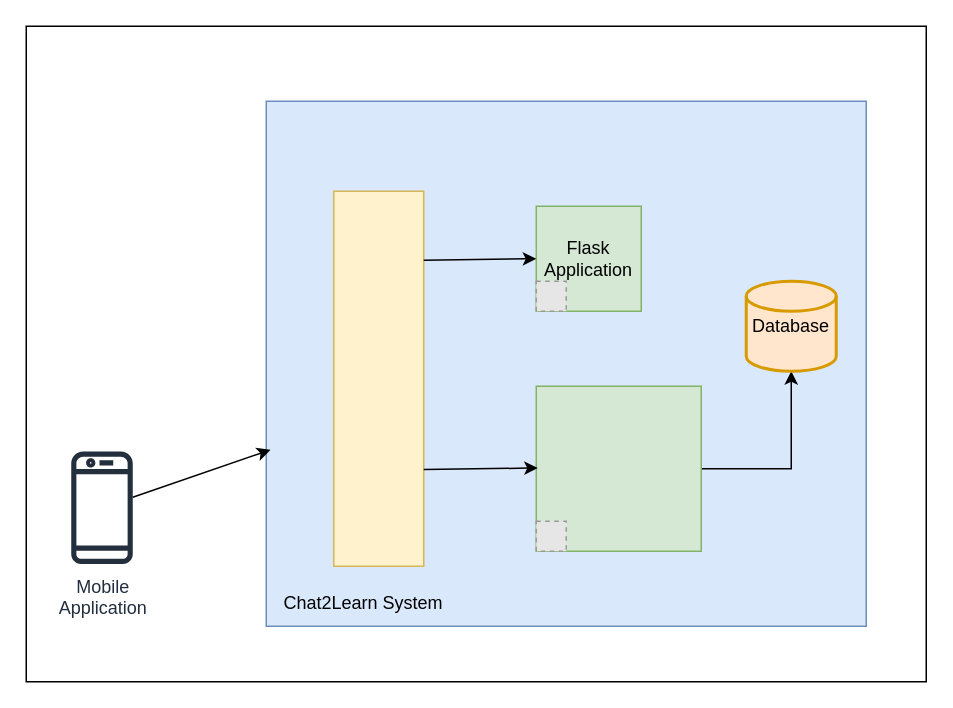
This 953x708 diagram has some shape labels left out. Grey dashed boxes stand in for pictures. The box of each missing label's shape, as (x1, y1, x2, y2) in pixels:
API GATEWAY: (332, 190, 424, 566)
Spring Boot Application: (535, 385, 701, 551)
